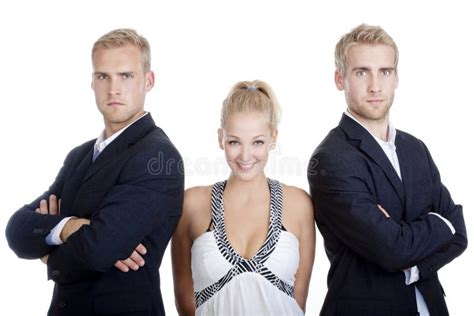femme: (174, 63, 322, 310)
homme: (9, 33, 170, 299), (317, 17, 455, 291)
